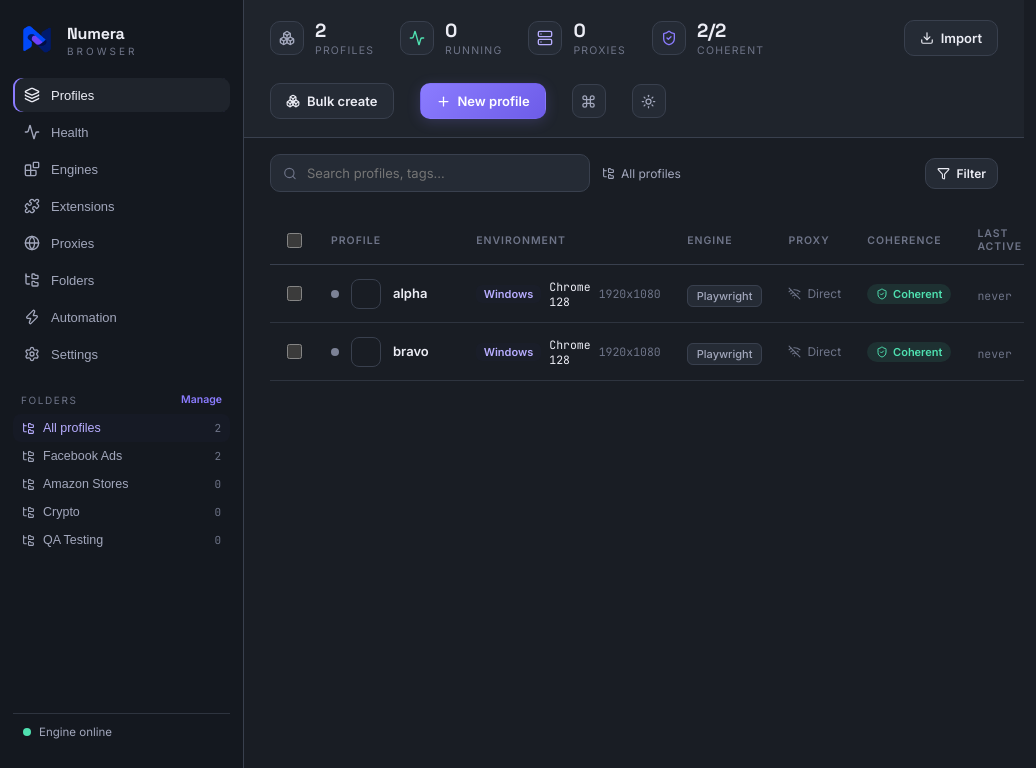
Test: a profile that fails to launch stays selected and is named
Expected: the text "Engine online" is shown, [39,725,112,739]
Expected: the text "alpha" is shown, [393,284,427,300]
Click the checkbox in the row of "Environment" at (294, 240), box [287,232,302,248]
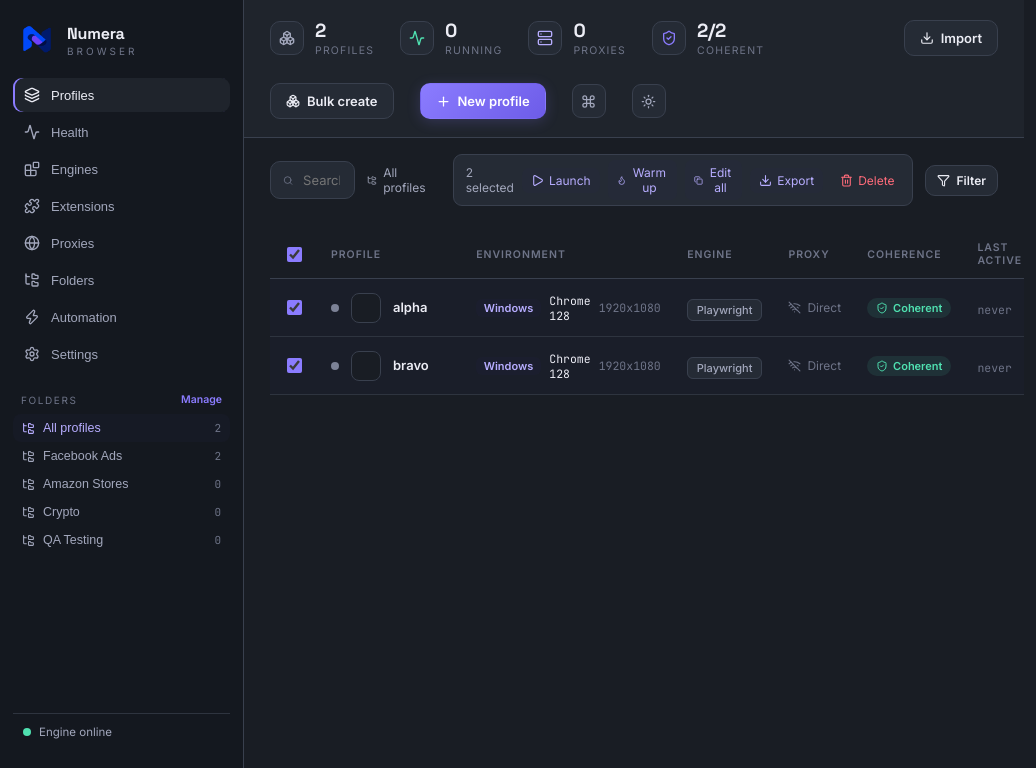
Click the button "Launch" at (561, 180), box [522,168,600,192]
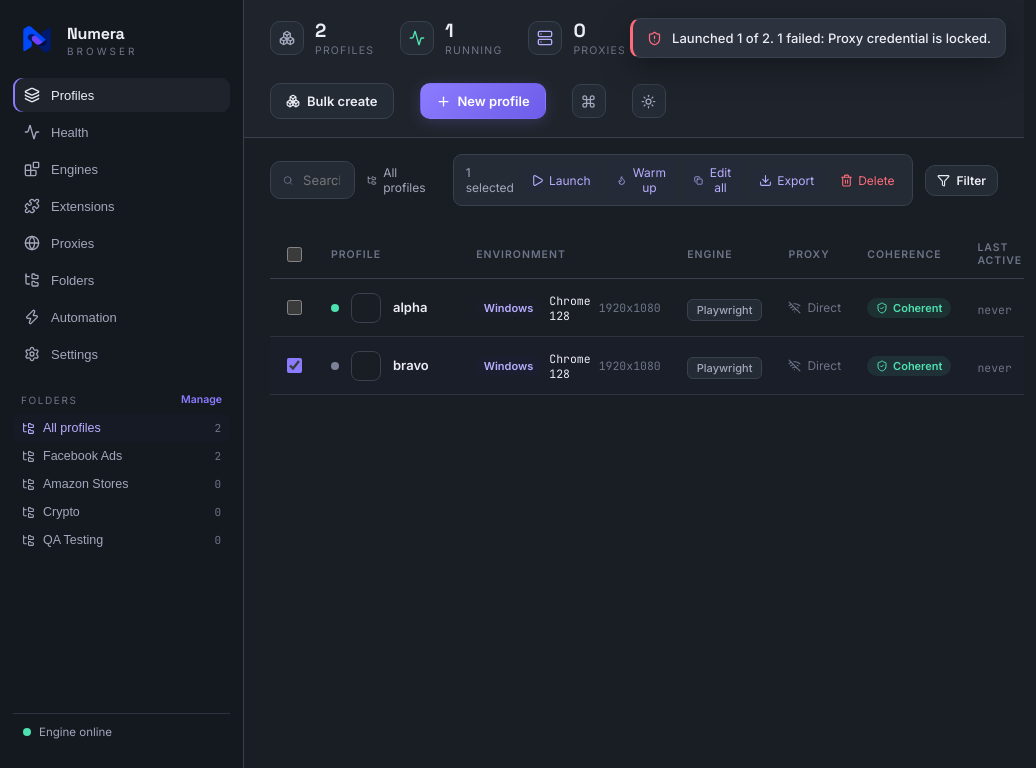
Expected: the element showing "bravo" is shown, [393,356,429,372]
Expected: the text "Launched 1 of 2. 1 failed: Proxy credential is locked." is shown, [672,30,991,46]
Expected: the text "1 selected" is shown, [466,165,514,195]
